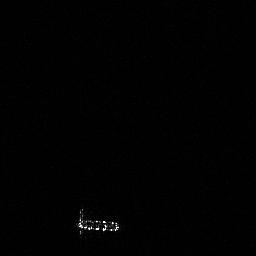ship: (73, 207, 123, 238)
